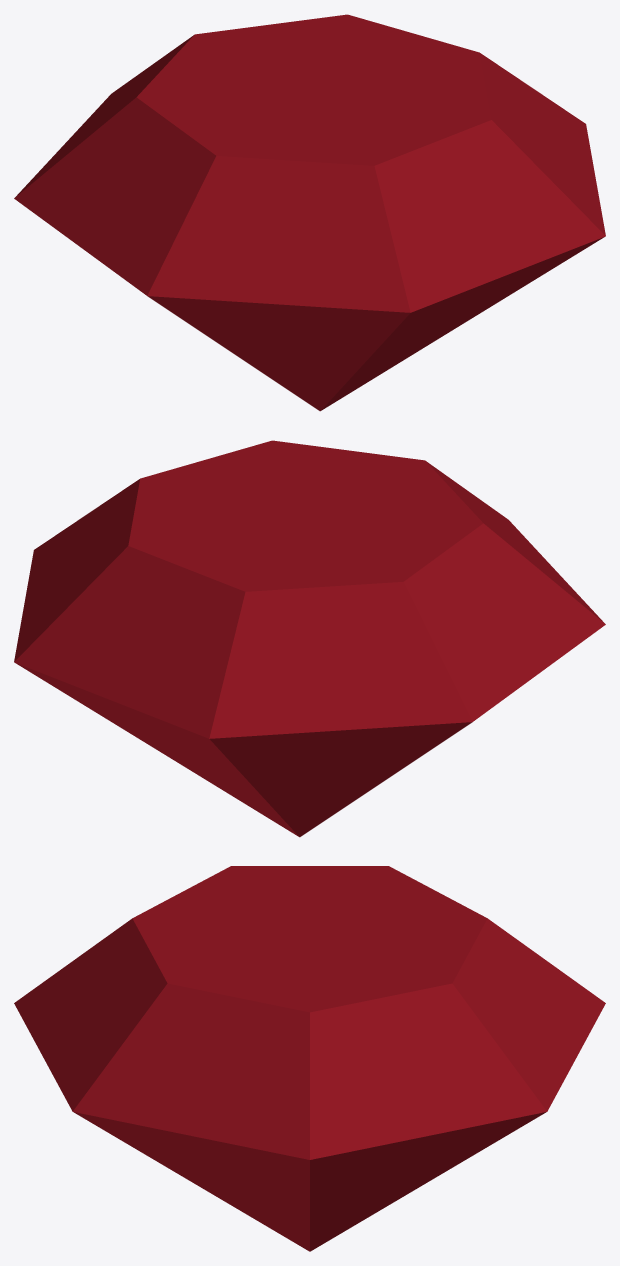
The model's file is Ruby.fbx.
The picture shows the model from 3 angles, top to bottom: view 1: azimuth 30°, elevation 25°; view 2: azimuth 150°, elevation 25°; view 3: azimuth 270°, elevation 25°; orthographic projection.
Visible parts, largest first — view 1: Diamond.001; view 2: Diamond.001; view 3: Diamond.001.
Part boxes in pixels (x1,y1,x2,y2): Diamond.001: (14, 14, 605, 411); Diamond.001: (14, 440, 605, 837); Diamond.001: (14, 866, 605, 1251).
Bounding box in the file's own units: 70.3 × 42.53 × 72.11.
